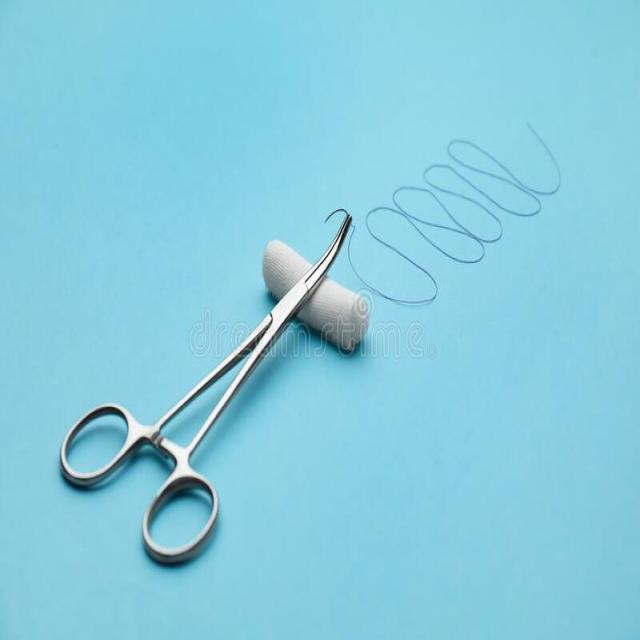B3: (32, 176, 386, 572), (248, 217, 382, 363)
